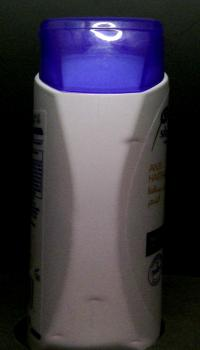dent_marginal: (110, 130, 148, 155), (77, 285, 110, 306), (41, 328, 72, 340), (116, 331, 121, 332)
